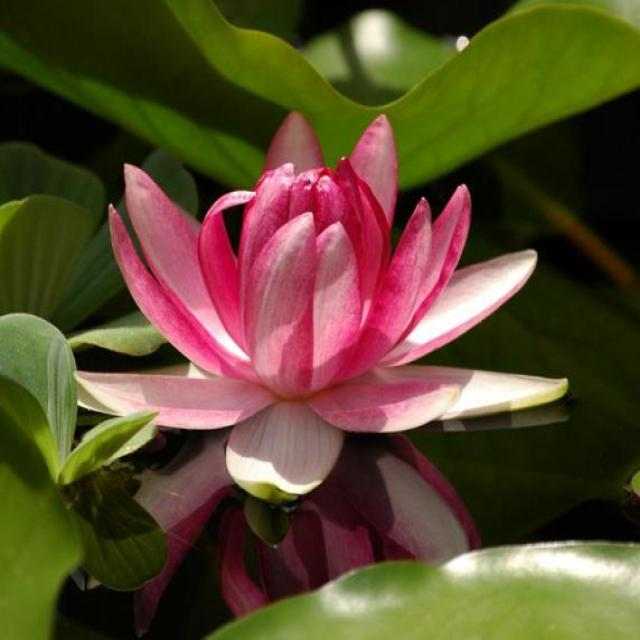water-lily: (82, 92, 561, 520)
